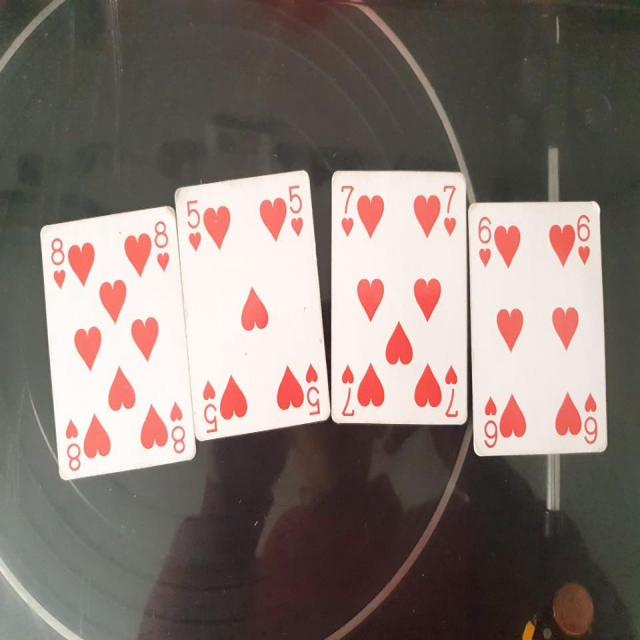5 Hearts: (171, 162, 334, 445)
6 Hearts: (456, 189, 610, 458)
7 Hearts: (326, 162, 476, 434)
8 Hearts: (28, 205, 200, 492)
